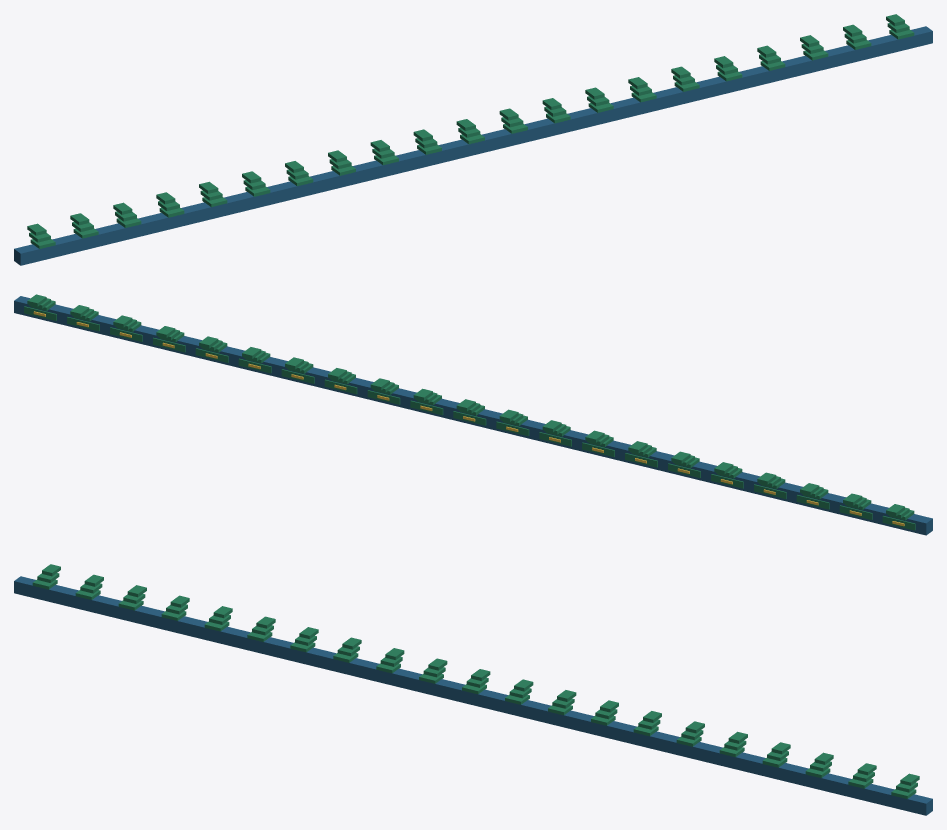
The model's file is SM_17_Painted_Beams_Back.fbx.
3 renders of one model, top to bottom at view 1: azimuth 30°, elevation 25°; view 2: azimuth 150°, elevation 25°; view 3: azimuth 330°, elevation 25°, orthographic.
Parts seen in each view (by area): view 1: Painted_Beams_Back; view 2: Painted_Beams_Back; view 3: Painted_Beams_Back.
Boxes of the visible parts, <box> form: Painted_Beams_Back: <box>14,14,932,265</box>; Painted_Beams_Back: <box>14,294,932,535</box>; Painted_Beams_Back: <box>14,564,932,815</box>.
Size of the model in its own units: 5100 by 145 by 125.
